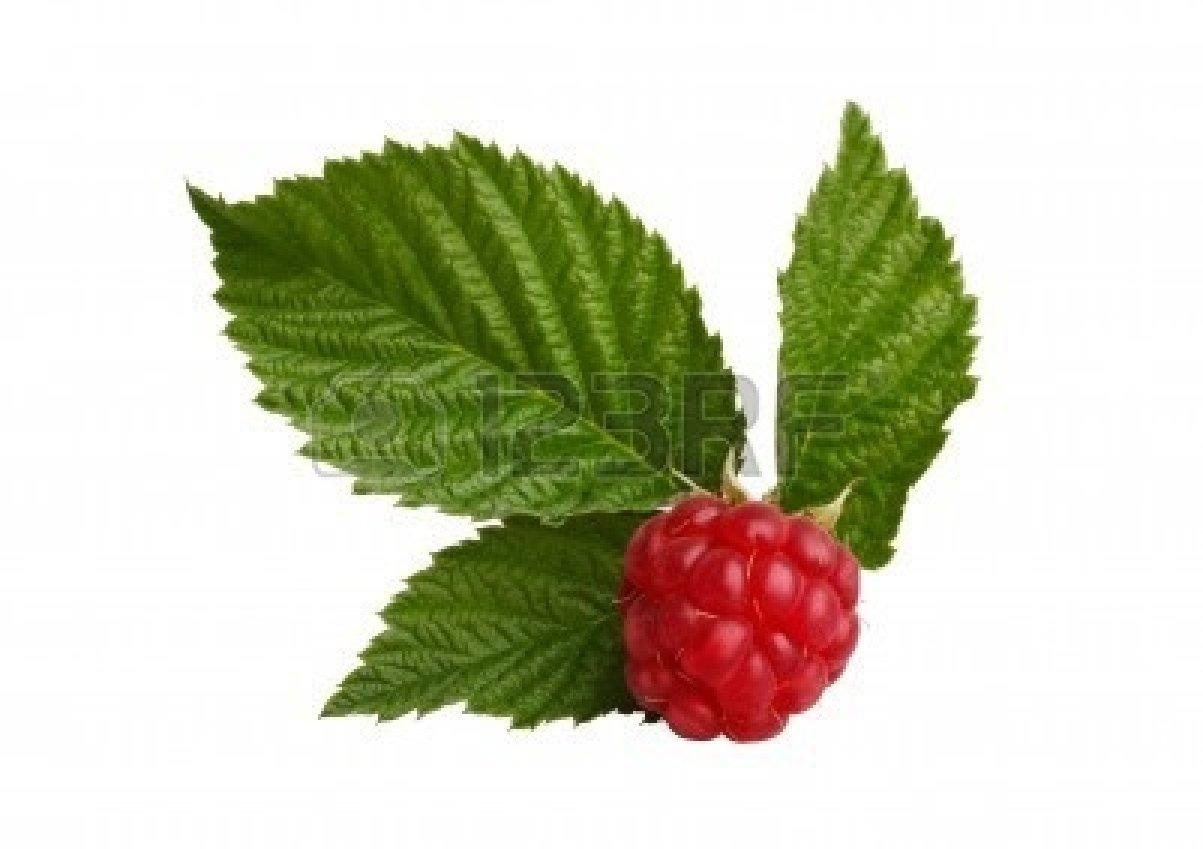Raspberry leaf: (181, 118, 741, 511), (310, 481, 810, 748), (801, 97, 990, 551)
